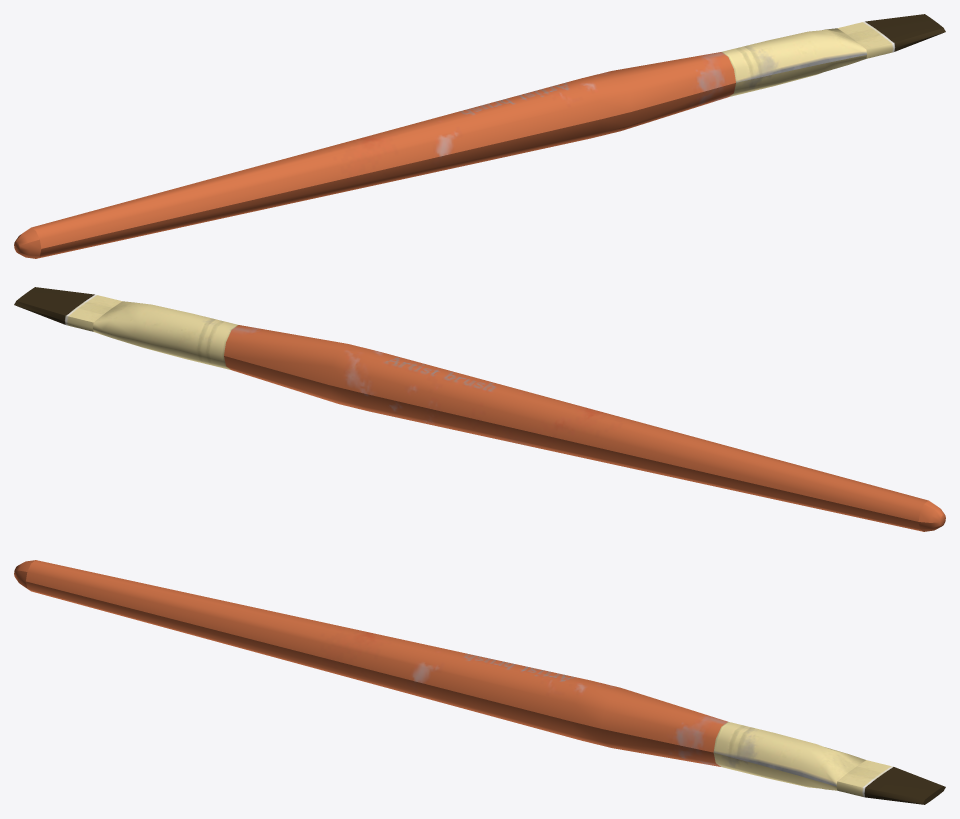
File: ArtBrush2_SM.fbx
3 renders of one model, top to bottom at view 1: azimuth 30°, elevation 25°; view 2: azimuth 150°, elevation 25°; view 3: azimuth 330°, elevation 25°, orthographic.
Parts seen in each view (by area): view 1: ArtBrush2_SM; view 2: ArtBrush2_SM; view 3: ArtBrush2_SM.
Part boxes in pixels (x1,y1,x2,y2): ArtBrush2_SM: (14,14,945,258); ArtBrush2_SM: (14,287,945,531); ArtBrush2_SM: (14,560,945,804).
Bounding box in the file's own units: 16.31 × 0.9086 × 0.9451.
